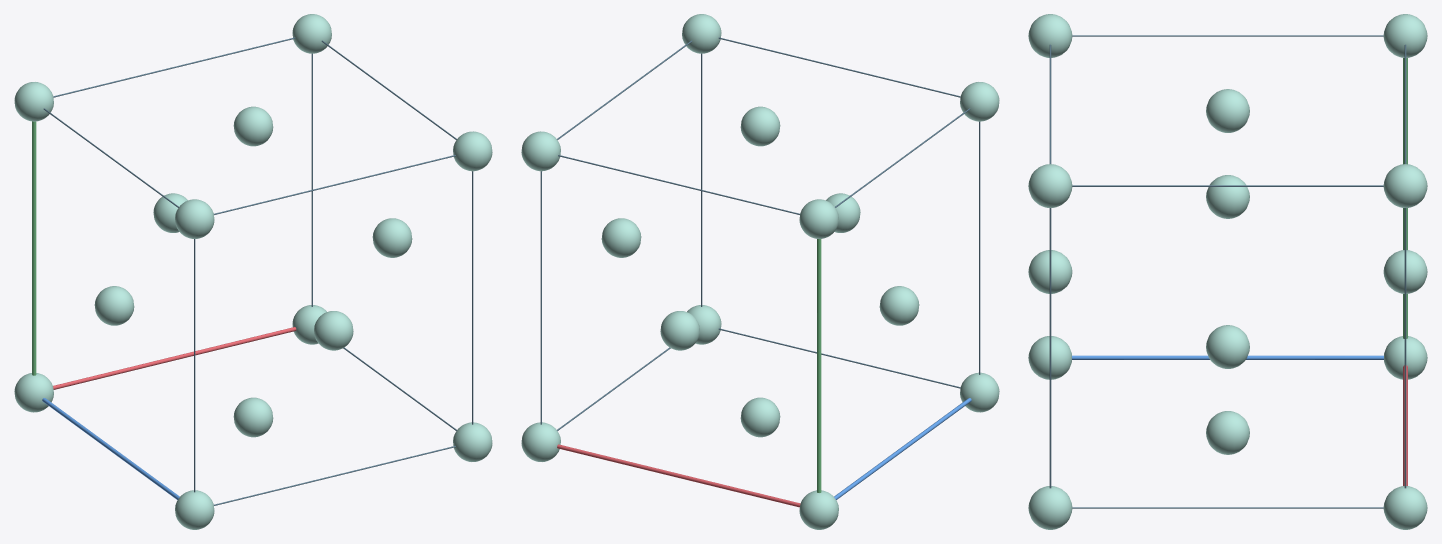
File: nguyen-to-ce.glb
3 views of the same model, side by side, from view 1: azimuth 30°, elevation 25°; view 2: azimuth 150°, elevation 25°; view 3: azimuth 270°, elevation 25° (orthographic). The views are drawn at different scales.
Parts seen in each view (by area): view 1: Ce · Ce · 1 (×14), Ô mạng và các trục a, b, c; view 2: Ce · Ce · 1 (×14), Ô mạng và các trục a, b, c; view 3: Ce · Ce · 1 (×14), Ô mạng và các trục a, b, c.
Part boxes in pixels (x1,y1,x2,y2): Ce · Ce · 1 (×14): [14, 14, 492, 529]; Ô mạng và các trục a, b, c: [32, 37, 473, 505]; Ce · Ce · 1 (×14): [521, 14, 999, 529]; Ô mạng và các trục a, b, c: [540, 37, 980, 507]; Ce · Ce · 1 (×14): [1028, 14, 1427, 529]; Ô mạng và các trục a, b, c: [1049, 35, 1407, 508].
Bounding box in the file's own units: 5.8 × 5.8 × 5.8.
